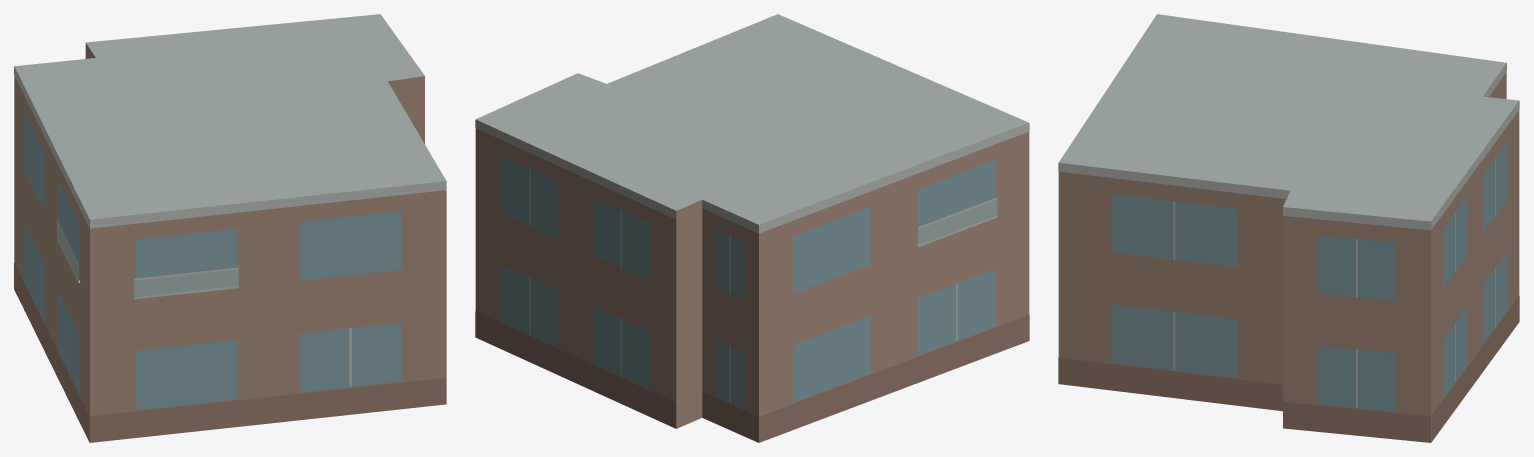
File: survey-upis-33038356.glb
The picture shows the model from 3 angles, left to right: view 1: azimuth 30°, elevation 25°; view 2: azimuth 150°, elevation 25°; view 3: azimuth 270°, elevation 25°; orthographic projection. The views are drawn at different scales.
Parts seen in each view (by area): view 1: survey-upis-33038356.tmp; view 2: survey-upis-33038356.tmp; view 3: survey-upis-33038356.tmp.
Part boxes in pixels (x1,y1,x2,y2): survey-upis-33038356.tmp: [14, 14, 446, 442]; survey-upis-33038356.tmp: [475, 14, 1029, 442]; survey-upis-33038356.tmp: [1058, 14, 1519, 442].
Bounding box in the file's own units: 12.28 × 6.1 × 11.53.
